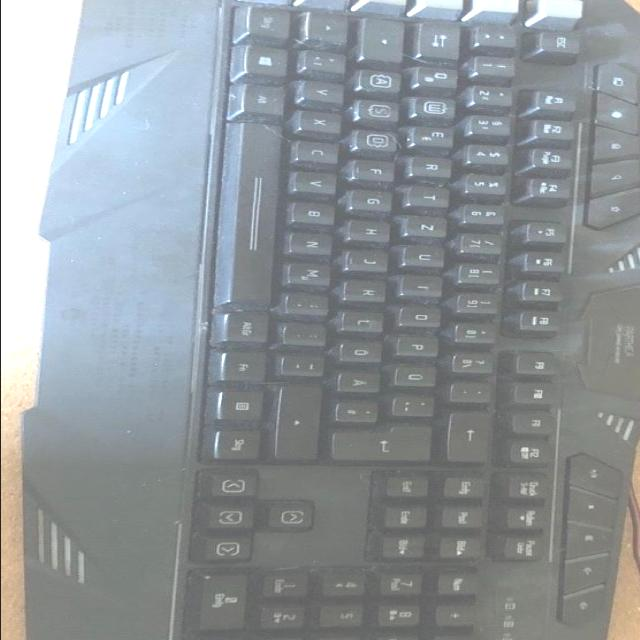0: (459, 320, 504, 342)
1: (479, 53, 523, 75)
2: (477, 82, 519, 104)
3: (473, 112, 519, 134)
4: (472, 142, 517, 163)
5: (471, 171, 516, 193)
6: (468, 201, 513, 223)
7: (465, 230, 511, 252)
8: (463, 260, 509, 282)
9: (462, 290, 508, 312)
a: (365, 68, 409, 90)
accent: (456, 379, 500, 401)
ae: (342, 368, 387, 390)
alt-left: (248, 81, 293, 113)
altgr-right: (229, 309, 275, 341)
b: (297, 199, 343, 223)
c: (301, 138, 348, 162)
caret: (480, 23, 525, 45)
comma: (290, 291, 337, 313)
d: (363, 128, 405, 149)
del: (451, 409, 497, 460)
e: (417, 124, 462, 144)
enter: (335, 422, 439, 460)
f: (357, 158, 402, 179)
g: (355, 187, 399, 209)
h: (354, 218, 398, 240)
hash: (341, 398, 386, 420)
i: (406, 273, 450, 295)
j: (351, 248, 395, 270)
k: (349, 277, 394, 301)
keyboard: (96, 0, 640, 640)
l: (347, 309, 392, 331)
less: (309, 48, 355, 70)
m: (293, 261, 340, 283)
minus: (286, 352, 332, 374)
n: (295, 229, 341, 253)
o: (404, 303, 449, 325)
oe: (344, 339, 389, 361)
p: (402, 333, 447, 355)
plus: (396, 392, 442, 414)
point: (288, 321, 334, 345)
q: (421, 63, 466, 85)
r: (417, 153, 459, 175)
s: (363, 98, 405, 119)
shift-left: (309, 10, 354, 42)
shift-lock: (365, 16, 410, 60)
shift-right: (616, 29, 640, 227), (281, 382, 327, 458)
space: (222, 118, 288, 304)
ss: (457, 349, 502, 371)
strg-left: (252, 4, 296, 38)
strg-right: (219, 425, 266, 458)
t: (413, 183, 457, 205)
tab: (421, 19, 469, 58)
u: (409, 243, 453, 265)
ue: (400, 363, 445, 385)
v: (300, 169, 346, 191)
w: (422, 96, 464, 116)
x: (304, 108, 350, 132)
y: (306, 79, 351, 101)
z: (410, 213, 455, 235)
